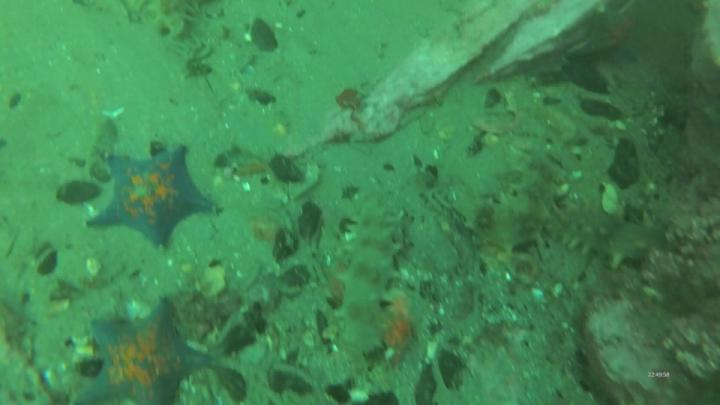echinus: (450, 131, 566, 254), (332, 199, 409, 364), (559, 196, 670, 272), (152, 1, 208, 45)
holothurian: (72, 298, 214, 405), (83, 145, 217, 249), (562, 1, 643, 61)
